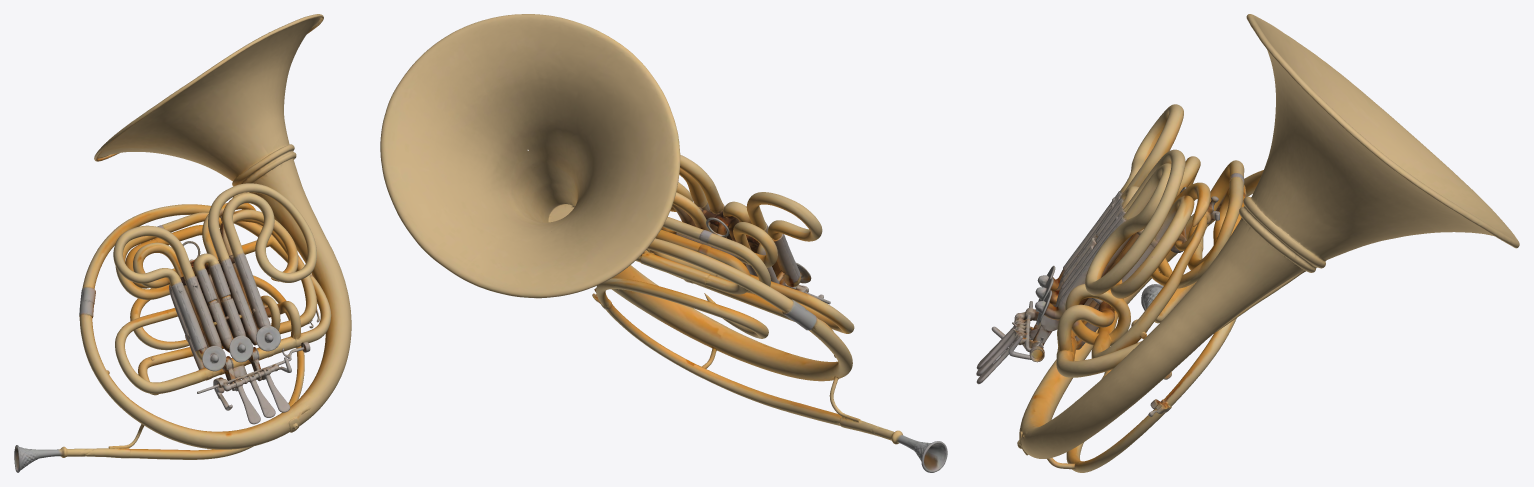
File: trompa.glb
The picture shows the model from 3 angles, left to right: view 1: azimuth 30°, elevation 25°; view 2: azimuth 150°, elevation 25°; view 3: azimuth 270°, elevation 25°; orthographic projection. The views are drawn at different scales.
Visible parts, largest first — view 1: tripo_node_443c9682-27df-4b63-b3c1-79b7977b5c62; view 2: tripo_node_443c9682-27df-4b63-b3c1-79b7977b5c62; view 3: tripo_node_443c9682-27df-4b63-b3c1-79b7977b5c62.
Part boxes in pixels (left/top/right/bottom): tripo_node_443c9682-27df-4b63-b3c1-79b7977b5c62: left=14, top=14, right=351, bottom=472; tripo_node_443c9682-27df-4b63-b3c1-79b7977b5c62: left=380, top=14, right=947, bottom=472; tripo_node_443c9682-27df-4b63-b3c1-79b7977b5c62: left=976, top=14, right=1519, bottom=472.
Size of the model in its own units: 0.9803 by 0.8513 by 0.8367.
Materials: 1 (1 with a texture image).
